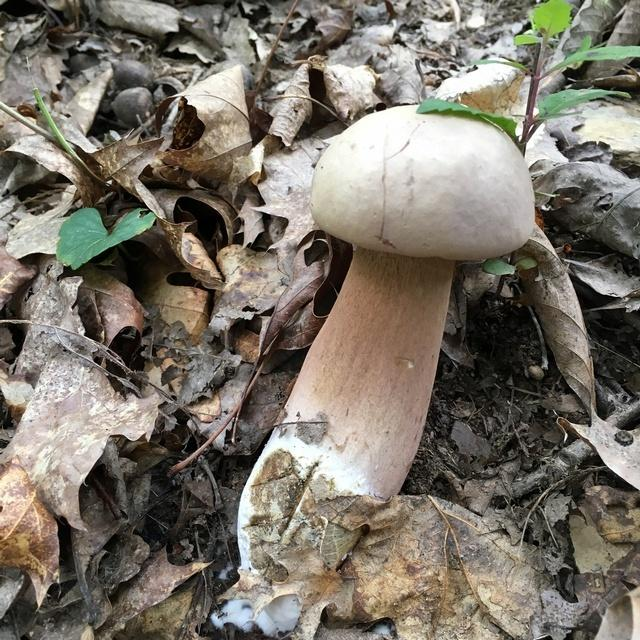poisonous_mushroom: (234, 100, 536, 579)
